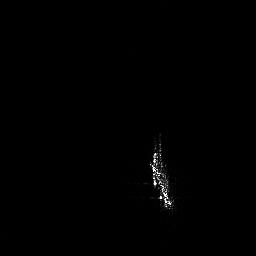ship: (148, 133, 175, 212)
